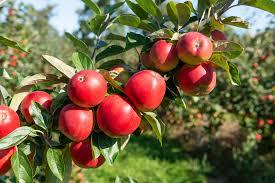apple: (123, 70, 168, 113), (100, 93, 141, 138), (65, 69, 108, 108), (57, 103, 95, 144), (176, 62, 219, 98), (16, 87, 54, 123), (69, 138, 110, 171), (178, 30, 214, 67), (150, 39, 179, 73), (0, 103, 21, 140)
